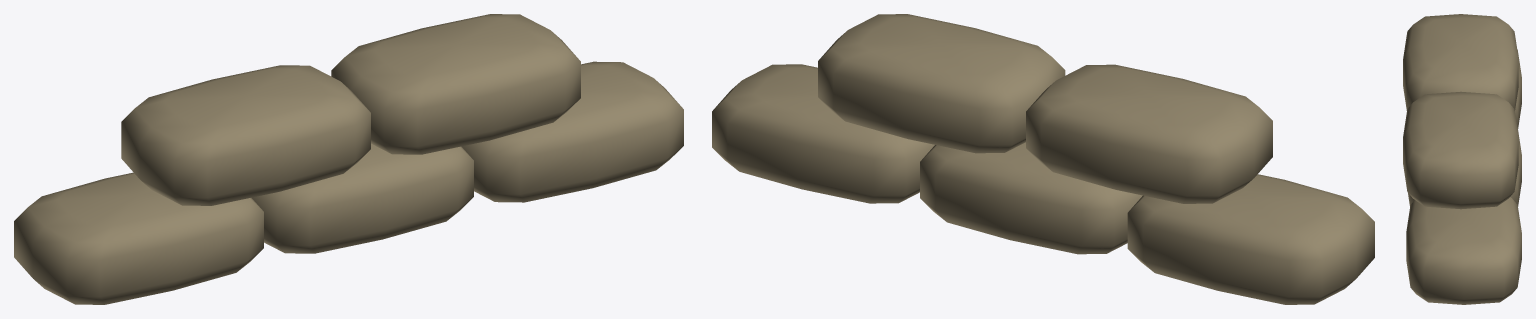
Rendered from sandbag_stack_2p66m.glb.
3 renders of one model, left to right at view 1: azimuth 30°, elevation 25°; view 2: azimuth 150°, elevation 25°; view 3: azimuth 270°, elevation 25°, orthographic. The views are drawn at different scales.
Parts seen in each view (by area): view 1: Sandbag_3, Sandbag_4, Sandbag_0, Sandbag_2, Sandbag_1; view 2: Sandbag_3, Sandbag_4, Sandbag_0, Sandbag_2, Sandbag_1; view 3: Sandbag_4, Sandbag_2, Sandbag_3, Sandbag_1, Sandbag_0.
Boxes of the visible parts, box(x1,y1,x2,y2) form: Sandbag_3: box(121, 65, 370, 205); Sandbag_4: box(331, 14, 580, 154); Sandbag_0: box(14, 172, 263, 304); Sandbag_2: box(461, 61, 683, 202); Sandbag_1: box(252, 143, 473, 253); Sandbag_3: box(1026, 64, 1272, 203); Sandbag_4: box(818, 14, 1065, 153); Sandbag_0: box(1127, 174, 1374, 304); Sandbag_2: box(712, 64, 934, 203); Sandbag_1: box(920, 142, 1142, 254); Sandbag_4: box(1403, 91, 1518, 209); Sandbag_2: box(1406, 197, 1521, 304); Sandbag_3: box(1403, 14, 1518, 110); Sandbag_1: box(1408, 127, 1521, 206); Sandbag_0: box(1515, 49, 1521, 128).
Bounding box in the file's own units: 2.65 × 0.62 × 0.5677.
